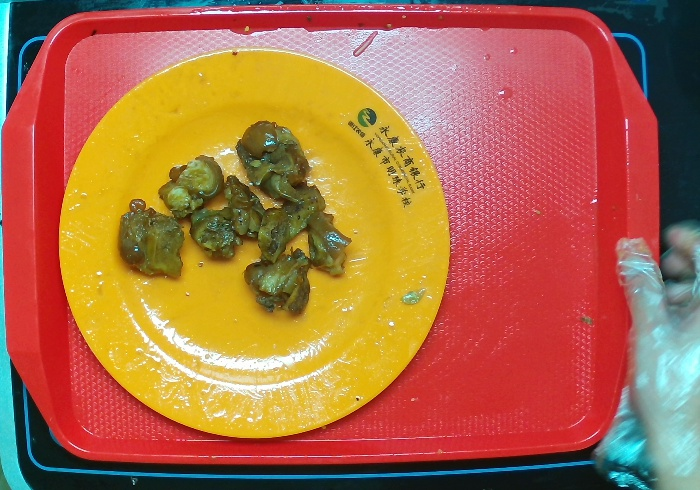YKMZ-Ju_Se_Mian_Pan: (57, 47, 452, 439)
